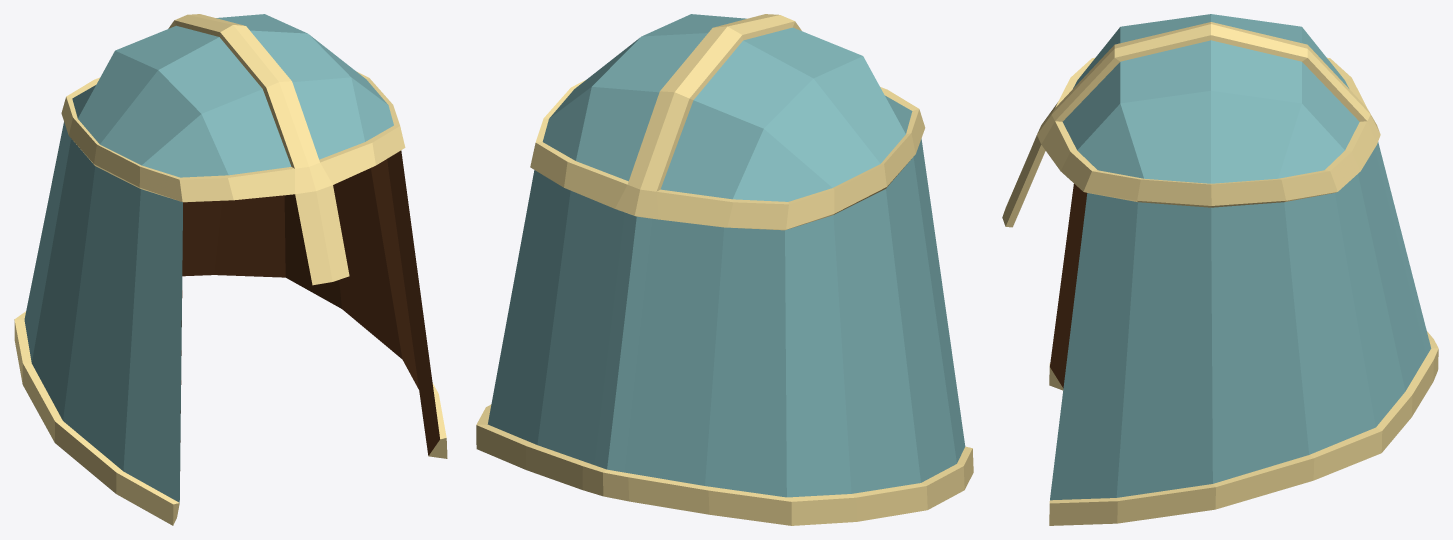
File: helm.glb
The picture shows the model from 3 angles, left to right: view 1: azimuth 30°, elevation 25°; view 2: azimuth 150°, elevation 25°; view 3: azimuth 270°, elevation 25°; orthographic projection. The views are drawn at different scales.
Parts seen in each view (by area): view 1: Helm; view 2: Helm; view 3: Helm.
Boxes of the visible parts, box(x1,y1,x2,y2) form: Helm: box(14, 14, 447, 525); Helm: box(476, 14, 973, 525); Helm: box(1002, 14, 1438, 525).
Size of the model in its own units: 1.31 by 1.45 by 1.33.
1 material, 1 textured.
